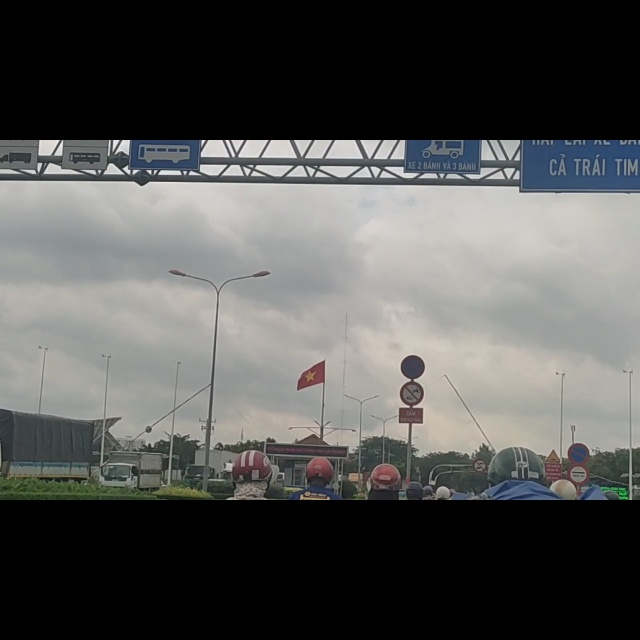bien_cam: (401, 380, 425, 424), (401, 429, 425, 472), (569, 537, 591, 576), (569, 576, 590, 613), (473, 563, 487, 591), (547, 548, 561, 571)
